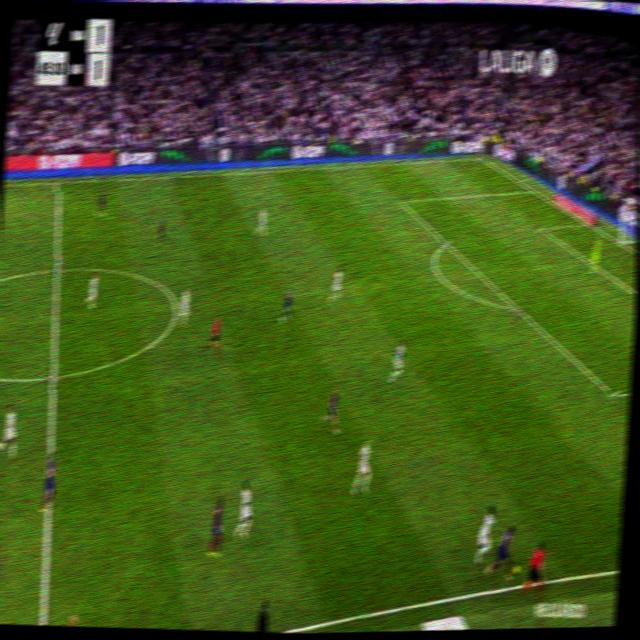bigarea_bottom_inner: (607, 383, 621, 407)
bigarea_top_inner: (395, 193, 407, 208)
bigarea_top_outter: (528, 183, 537, 195)
bottom_arc_area_intersection: (511, 299, 523, 317)
corner: (475, 153, 486, 163)
halfcircle_bottom: (45, 362, 62, 392)
halfcircle_top: (49, 256, 65, 283)
midline_top_intersection: (54, 175, 65, 191)
smallarea_top_inner: (535, 221, 547, 234)
top_arc_area_intersection: (441, 234, 451, 250)
